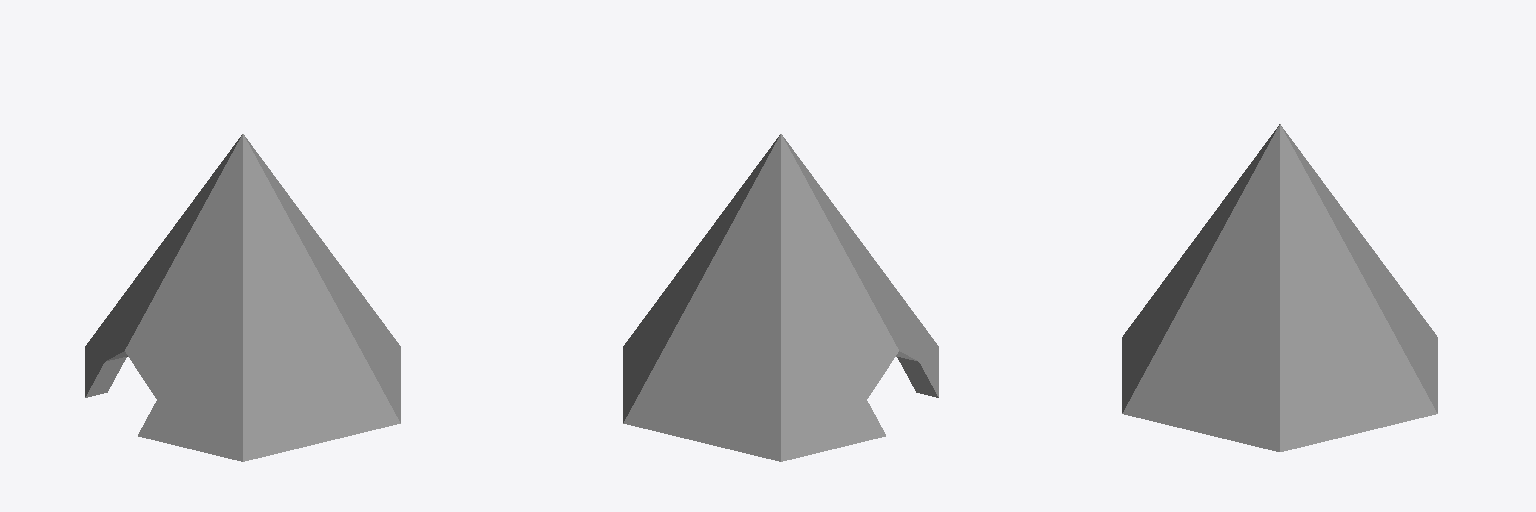
The model's file is octo_hut_roof.obj.
The picture shows the model from 3 angles: view 1: azimuth 30°, elevation 25°; view 2: azimuth 150°, elevation 25°; view 3: azimuth 270°, elevation 25°; orthographic projection.
Visible parts, largest first — view 1: Octo_Hut_Roof; view 2: Octo_Hut_Roof; view 3: Octo_Hut_Roof.
Boxes of the visible parts, <box> form: Octo_Hut_Roof: <box>85,134,400,461</box>; Octo_Hut_Roof: <box>623,134,938,461</box>; Octo_Hut_Roof: <box>1122,124,1437,451</box>.
Bounding box in the file's own units: 9.63 × 8 × 9.09.